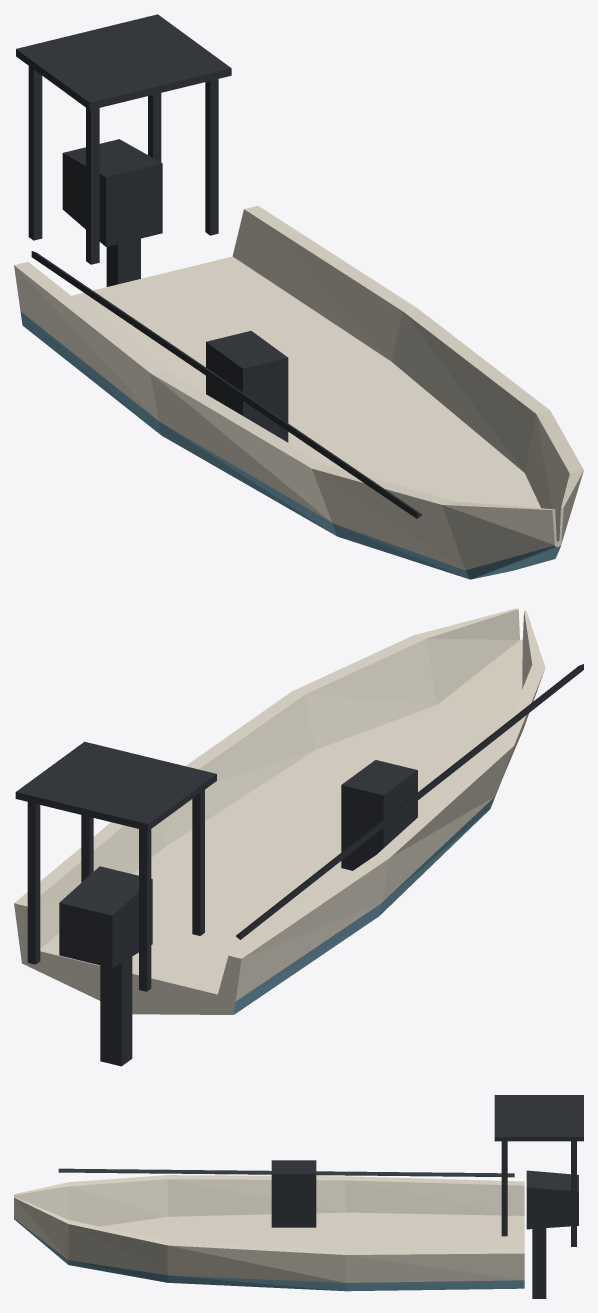
File: skiff.glb
3 renders of one model, top to bottom at view 1: azimuth 30°, elevation 25°; view 2: azimuth 150°, elevation 25°; view 3: azimuth 270°, elevation 25°, orthographic. The views are drawn at different scales.
Parts seen in each view (by area): view 1: skiff_hull, skiff_gear; view 2: skiff_hull, skiff_gear; view 3: skiff_hull, skiff_gear.
Part boxes in pixels (x1=…): skiff_hull: x1=14, y1=205, x2=583, y2=579; skiff_gear: x1=16, y1=14, x2=422, y2=518; skiff_hull: x1=14, y1=608, x2=545, y2=1014; skiff_gear: x1=15, y1=664, x2=583, y2=1066; skiff_hull: x1=14, y1=1175, x2=524, y2=1291; skiff_gear: x1=58, y1=1095, x2=583, y2=1298.
Bounding box in the file's own units: 1.88 × 2 × 5.75.
